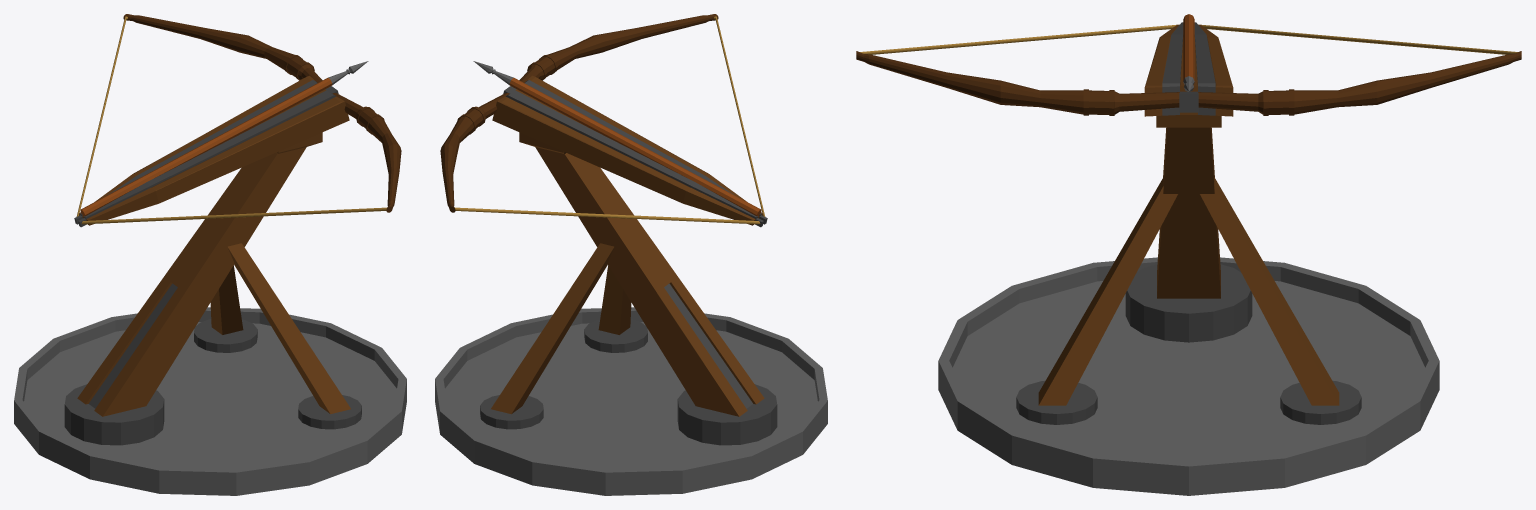
The model's file is SpearThrower.fbx.
3 views of the same model, side by side, from view 1: azimuth 30°, elevation 25°; view 2: azimuth 150°, elevation 25°; view 3: azimuth 270°, elevation 25° (orthographic). The views are drawn at different scales.
Visible parts, largest first — view 1: BasePrincipal, Base, Base2, Crossbow, Lanca, Corda; view 2: BasePrincipal, Base, Base2, Crossbow, Lanca, Corda; view 3: BasePrincipal, Base, Base2, Crossbow, Corda, Lanca.
Boxes of the visible parts, x1,y1,x2,y2 form: BasePrincipal: (14, 307, 406, 495); Base: (64, 75, 349, 445); Base2: (194, 243, 361, 429); Crossbow: (123, 14, 401, 212); Lanca: (80, 61, 368, 216); Corda: (76, 16, 387, 224); BasePrincipal: (435, 307, 827, 495); Base: (492, 75, 777, 445); Base2: (480, 243, 647, 429); Crossbow: (440, 14, 718, 212); Lanca: (473, 61, 761, 216); Corda: (454, 16, 765, 224); BasePrincipal: (938, 257, 1439, 495); Base: (1125, 22, 1252, 342); Base2: (1016, 177, 1361, 424); Crossbow: (856, 51, 1521, 115); Corda: (860, 24, 1517, 54); Lanca: (1183, 14, 1194, 91).
Bounding box in the file's own units: 308 × 269 × 409.
1 material, 1 textured.
